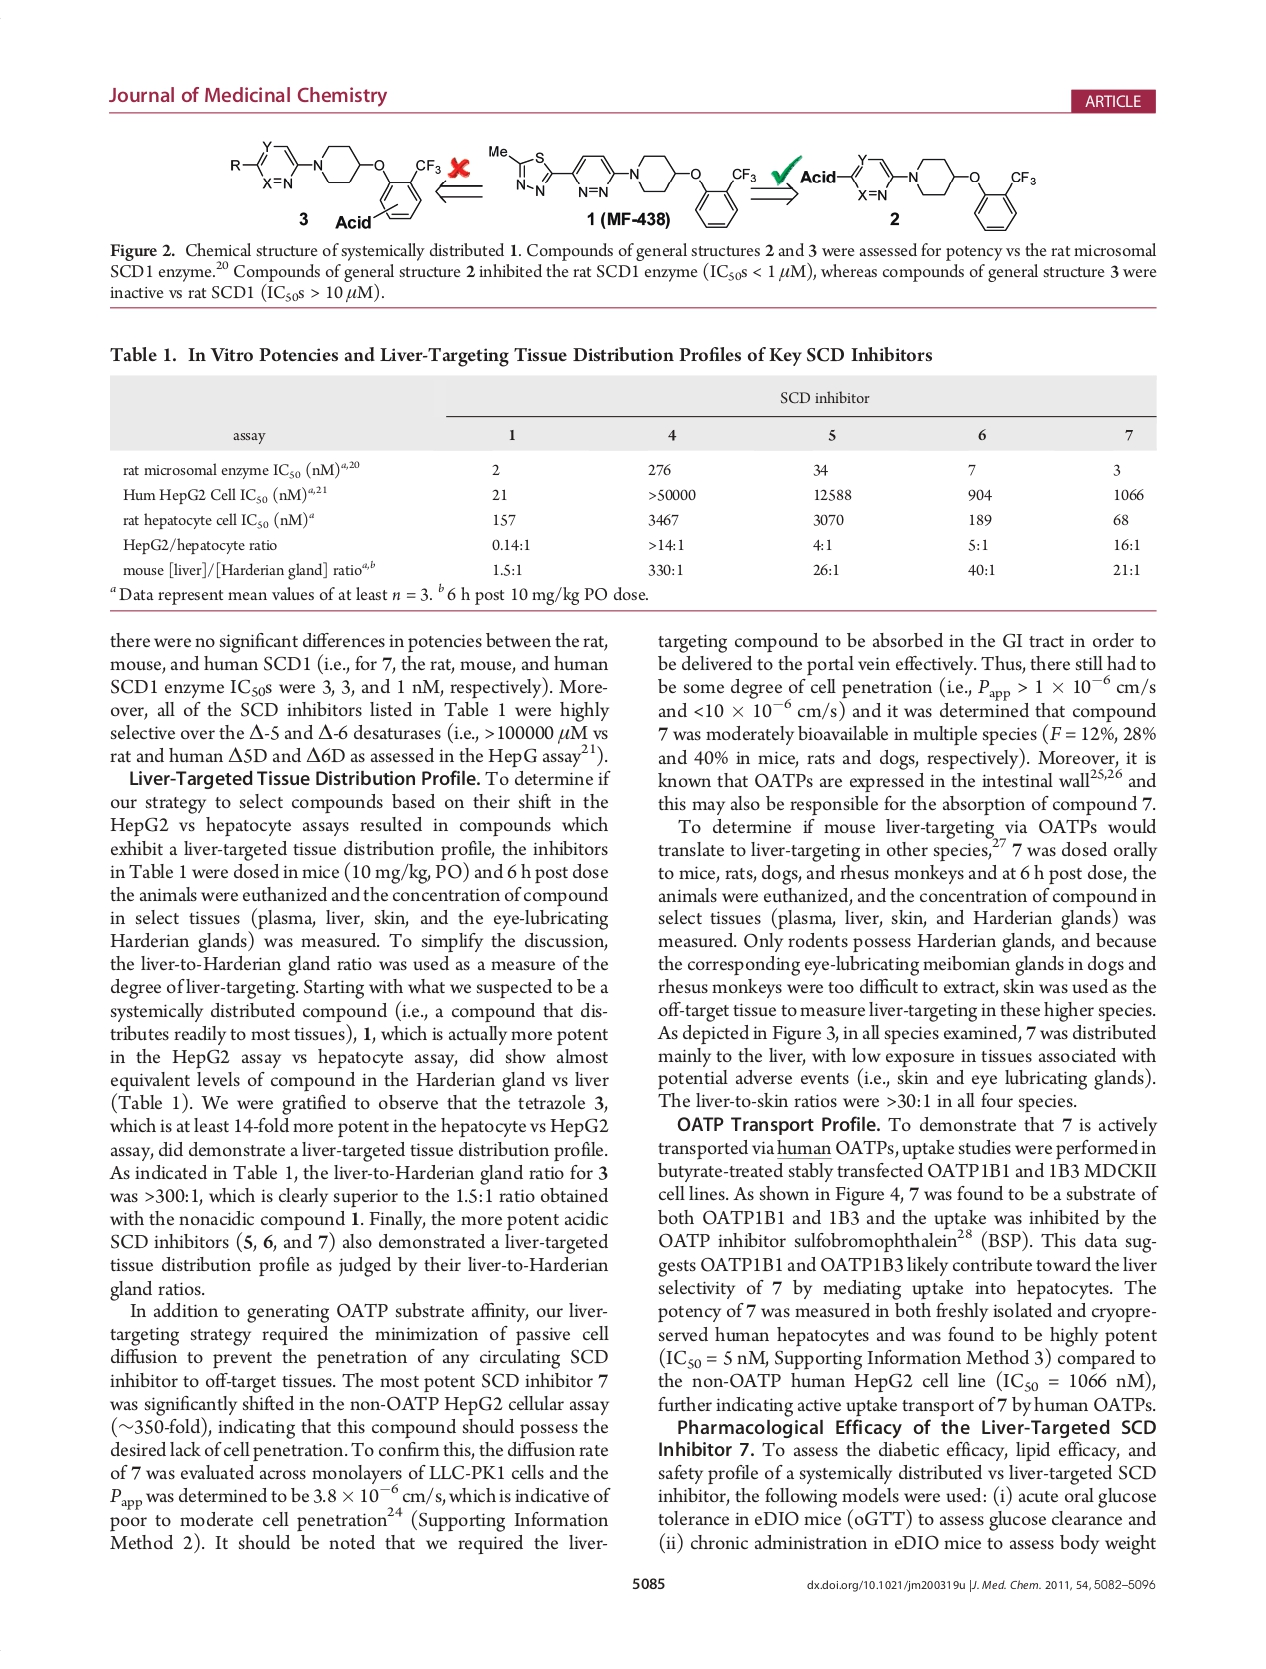exist_molecular: (485, 137, 757, 230), (222, 136, 443, 231), (801, 152, 1039, 237)
